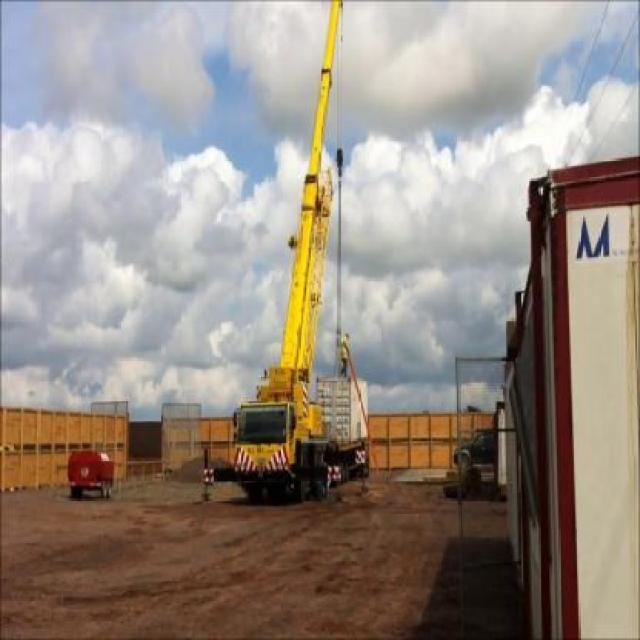Mobile Crane: (200, 0, 369, 505)
